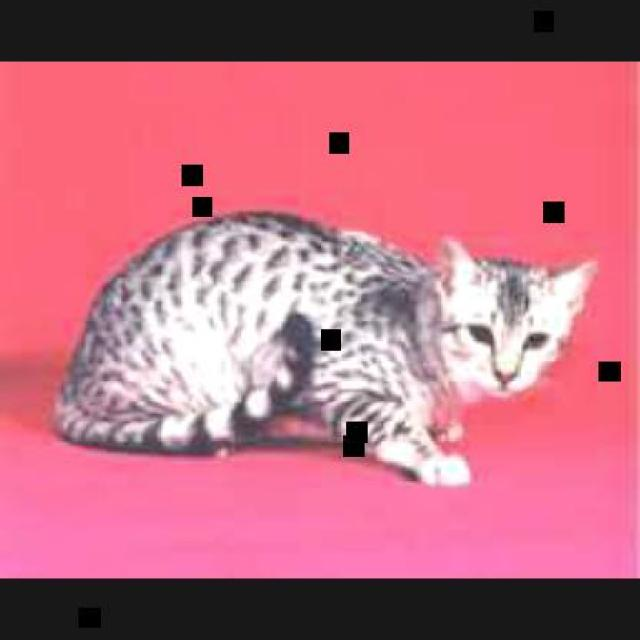unauthorized: (49, 208, 598, 488)
